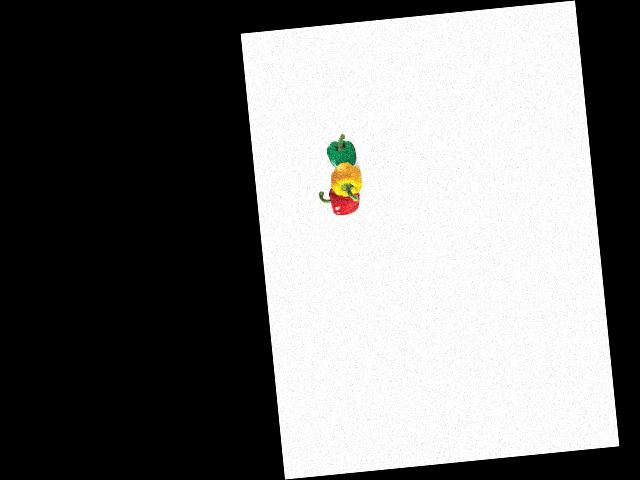bell_pepper: (322, 133, 360, 172)
